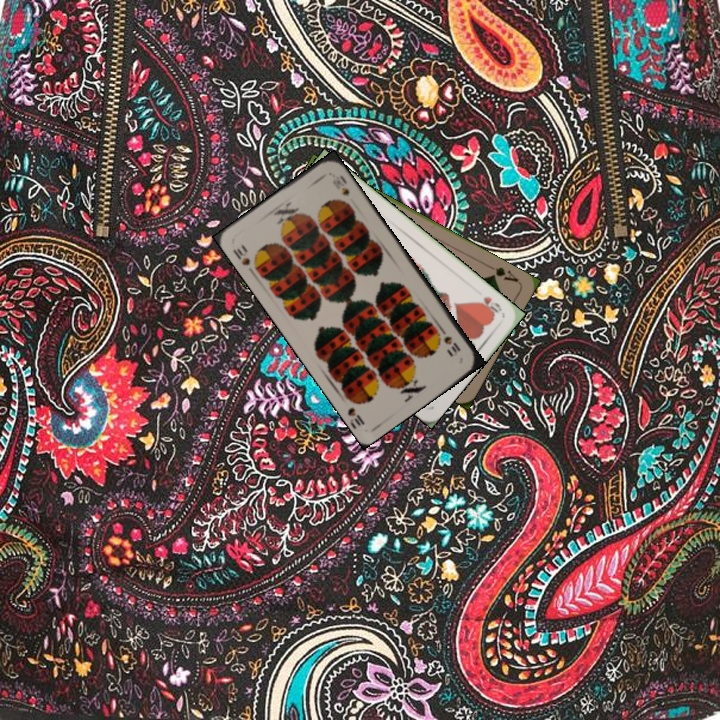GA: (483, 261, 521, 285)
HO: (473, 292, 505, 318)
S10: (436, 324, 463, 359), (228, 240, 253, 268)
